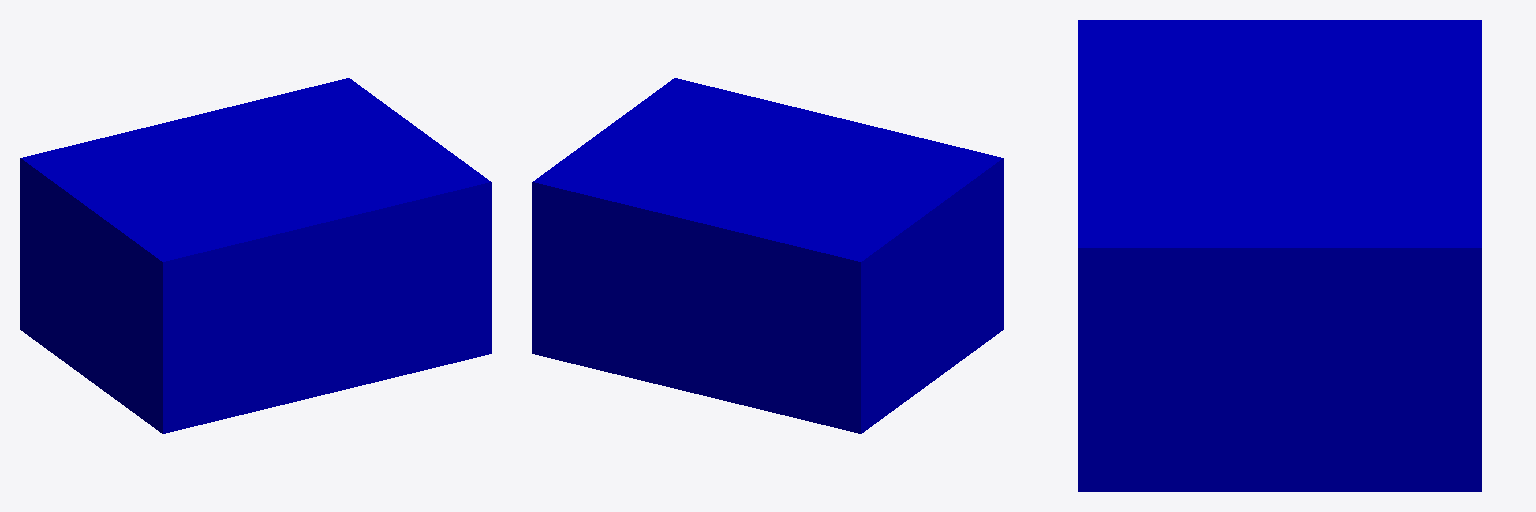
The robot description file, URDF, robot "lunabot":
<?xml version="1.0"?>
<robot name="lunabot" xmlns:xacro="http://www.ros.org/wiki/xacro">
  
  <!-- Base Link -->
  <!-- Make robot 10x bigger -->
<link name="base_link">
  <visual>
    <geometry>
      <box size="2.0 1.5 1.0"/>  <!-- Changed from 0.5 0.3 0.2 -->
    </geometry>
    <material name="blue">
      <color rgba="0 0 0.8 1"/>
    </material>
  </visual>
  <collision>
    <geometry>
      <box size="2.0 1.5 1.0"/>  <!-- Changed from 0.5 0.3 0.2 -->
    </geometry>
  </collision>
    <inertial>
      <mass value="10"/>
      <inertia ixx="0.4" ixy="0" ixz="0" iyy="0.4" iyz="0" izz="0.2"/>
    </inertial>
  </link>

  <!-- Left Wheel -->
  <link name="left_wheel">
    <visual>
      <geometry>
        <cylinder radius="0.1" length="0.05"/>
      </geometry>
      <material name="black">
        <color rgba="0 0 0 1"/>
      </material>
    </visual>
    <collision>
      <geometry>
        <cylinder radius="0.1" length="0.05"/>
      </geometry>
    </collision>
    <inertial>
      <mass value="2"/>
      <inertia ixx="0.01" ixy="0" ixz="0" iyy="0.01" iyz="0" izz="0.02"/>
    </inertial>
  </link>

  <!-- Right Wheel -->
  <link name="right_wheel">
    <visual>
      <geometry>
        <cylinder radius="0.1" length="0.05"/>
      </geometry>
      <material name="black">
        <color rgba="0 0 0 1"/>
      </material>
    </visual>
    <collision>
      <geometry>
        <cylinder radius="0.1" length="0.05"/>
      </geometry>
    </collision>
    <inertial>
      <mass value="2"/>
      <inertia ixx="0.01" ixy="0" ixz="0" iyy="0.01" iyz="0" izz="0.02"/>
    </inertial>
  </link>

  <!-- Wheel Joints -->
  <joint name="left_wheel_joint" type="continuous">
    <parent link="base_link"/>
    <child link="left_wheel"/>
    <origin xyz="0 0.175 -0.1" rpy="-1.5707 0 0"/>
    <axis xyz="0 0 1"/>
  </joint>

  <joint name="right_wheel_joint" type="continuous">
    <parent link="base_link"/>
    <child link="right_wheel"/>
    <origin xyz="0 -0.175 -0.1" rpy="-1.5707 0 0"/>
    <axis xyz="0 0 1"/>
  </joint>

  <!-- LiDAR -->
  <link name="lidar_link">
  <visual>
    <geometry>
      <cylinder radius="0.3" length="0.5"/>  <!-- Changed from 0.05 0.1 -->
    </geometry>
    <material name="red">
      <color rgba="1.0 0 0 1"/>  <!-- Bright red -->
    </material>
  </visual>
    <collision>
      <geometry>
        <cylinder radius="0.05" length="0.1"/>
      </geometry>
    </collision>
    <inertial>
      <mass value="0.5"/>
      <inertia ixx="0.001" ixy="0" ixz="0" iyy="0.001" iyz="0" izz="0.001"/>
    </inertial>
  </link>

  <joint name="lidar_joint" type="fixed">
    <parent link="base_link"/>
    <child link="lidar_link"/>
    <origin xyz="0 0 0.15" rpy="0 0 0"/>
  </joint>

  <!-- Camera -->
  <link name="camera_link">
  <visual>
    <geometry>
      <box size="0.5 0.4 0.3"/>  <!-- Changed from 0.1 0.1 0.05 -->
    </geometry>
    <material name="green">
      <color rgba="0 1.0 0 1"/>  <!-- Bright green -->
    </material>
  </visual>

    <collision>
      <geometry>
        <box size="0.1 0.1 0.05"/>
      </geometry>
    </collision>
    <inertial>
      <mass value="0.3"/>
      <inertia ixx="0.001" ixy="0" ixz="0" iyy="0.001" iyz="0" izz="0.001"/>
    </inertial>
  </link>

  <joint name="camera_joint" type="fixed">
    <parent link="base_link"/>
    <child link="camera_link"/>
    <origin xyz="0.2 0 0.05" rpy="0 0 0"/>
  </joint>

  <!-- Gazebo Plugins -->
  <gazebo>
    <plugin name="differential_drive_controller" filename="libgazebo_ros_diff_drive.so">
      <ros>
        <namespace>/lunabot</namespace>
      </ros>
      <left_joint>left_wheel_joint</left_joint>
      <right_joint>right_wheel_joint</right_joint>
      <wheel_separation>0.35</wheel_separation>
      <wheel_diameter>0.2</wheel_diameter>
      <max_wheel_torque>20</max_wheel_torque>
      <max_wheel_acceleration>1.0</max_wheel_acceleration>
      <publish_odom>true</publish_odom>
      <publish_odom_tf>true</publish_odom_tf>
      <publish_wheel_tf>true</publish_wheel_tf>
      <odometry_frame>odom</odometry_frame>
      <robot_base_frame>base_link</robot_base_frame>
    </plugin>
  </gazebo>

  <gazebo reference="lidar_link">
  <plugin name="lidar_controller" filename="libgazebo_ros_ray_sensor.so">
    <ros>
      <namespace>/lunabot</namespace>
      <remapping>~/out:=scan</remapping>
    </ros>
    <output_type>sensor_msgs/LaserScan</output_type>
    <frame_name>lidar_link</frame_name>
    <update_rate>10</update_rate>
    <ray>
      <scan>
        <horizontal>
          <samples>360</samples>
          <resolution>1</resolution>
          <min_angle>-3.14159</min_angle>
          <max_angle>3.14159</max_angle>
        </horizontal>
      </scan>
      <range>
        <min>0.1</min>
        <max>30.0</max>
        <resolution>0.01</resolution>
      </range>
    </ray>
  </plugin>
</gazebo>


  <gazebo reference="camera_link">
  <plugin name="camera_controller" filename="libgazebo_ros_camera.so">
    <ros>
      <namespace>/lunabot</namespace>
      <remapping>image_raw:=camera/image_raw</remapping>
      <remapping>camera_info:=camera/camera_info</remapping>
    </ros>
    <camera_name>camera</camera_name>
    <frame_name>camera_link</frame_name>
    <hack_baseline>0.07</hack_baseline>
    <update_rate>10</update_rate>
    <image>
      <width>640</width>
      <height>480</height>
      <format>R8G8B8</format>
    </image>
    <clip>
      <near>0.02</near>
      <far>300</far>
    </clip>
  </plugin>
</gazebo>


</robot>

--- Facts derived from the render (not from the file) ---
Views: 3 orthographic renders of the robot side by side, from view 1: azimuth 30°, elevation 25°; view 2: azimuth 150°, elevation 25°; view 3: azimuth 270°, elevation 25°.
Robot: lunabot — 5 links, 4 joints (2 continuous, 2 fixed); root link base_link; default pose: all joints at 0.
Links seen in each view (by area): view 1: base_link; view 2: base_link; view 3: base_link.
Link boxes in pixels (left/top/right/bottom): base_link: left=20, top=78, right=491, bottom=433; base_link: left=532, top=78, right=1003, bottom=433; base_link: left=1078, top=20, right=1481, bottom=491.
Bounding box of the posed robot: 2 × 1.5 × 1 m (x, y, z).
Geometry: primitives only (box / cylinder / sphere), no mesh files.